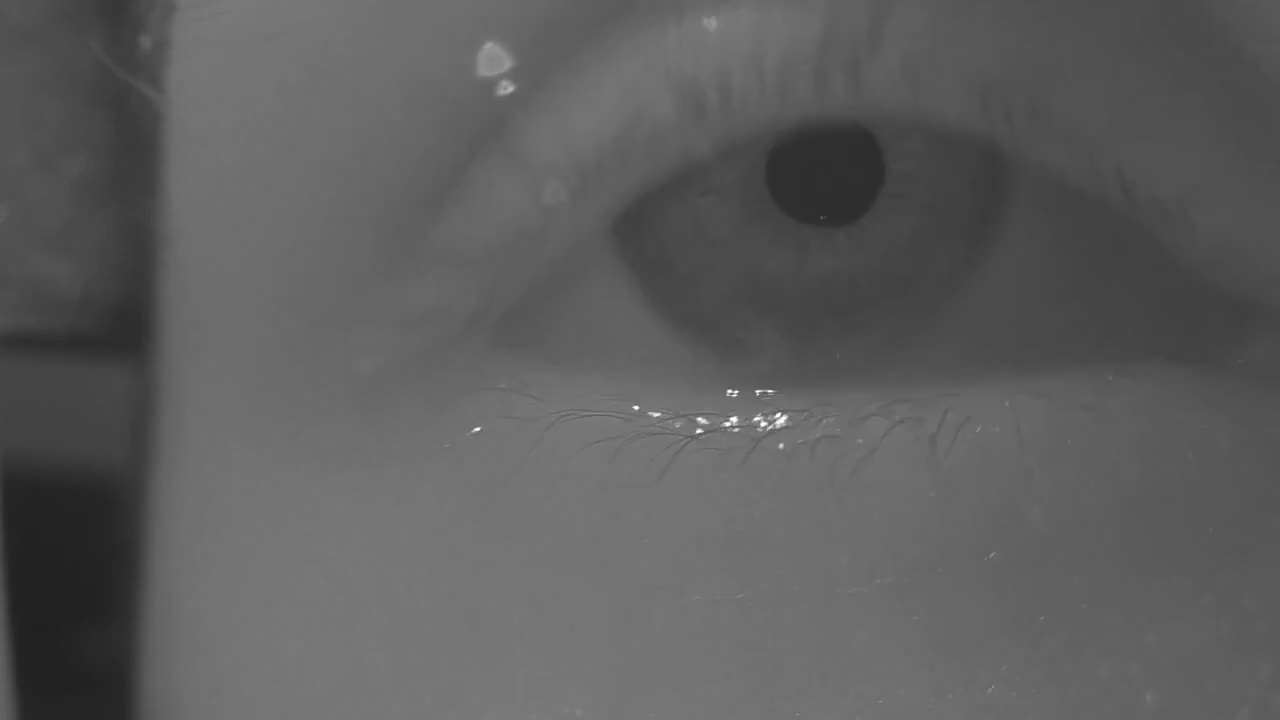pupil: (768, 114, 885, 223)
